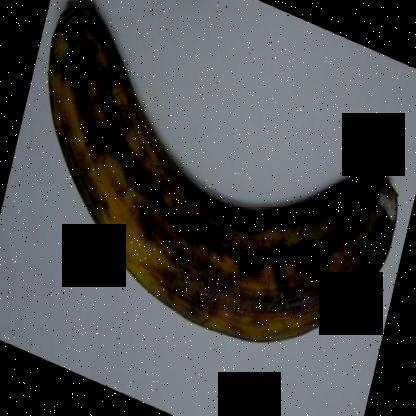overripe: (32, 1, 404, 360)
